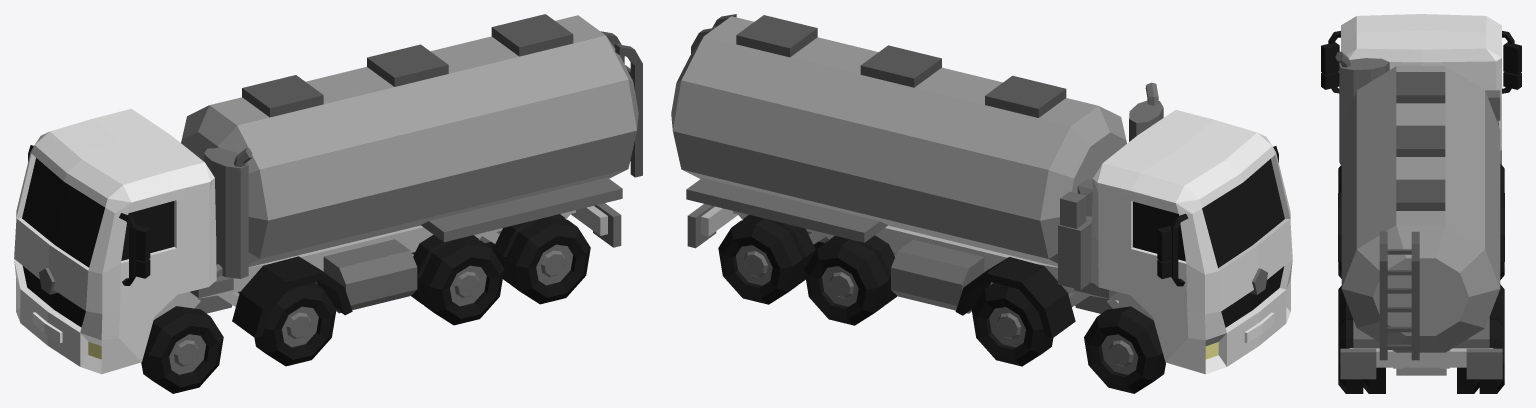
Rendered from vehicle_static_truck_2.glb.
The picture shows the model from 3 angles, left to right: view 1: azimuth 30°, elevation 25°; view 2: azimuth 150°, elevation 25°; view 3: azimuth 270°, elevation 25°; orthographic projection. The views are drawn at different scales.
Parts seen in each view (by area): view 1: Truck 2 Cargo; view 2: Truck 2 Cargo; view 3: Truck 2 Cargo.
Boxes of the visible parts, box(x1,y1,x2,y2) form: Truck 2 Cargo: box(14, 14, 642, 393); Truck 2 Cargo: box(671, 14, 1292, 393); Truck 2 Cargo: box(1321, 14, 1521, 393).
Bounding box in the file's own units: 8.56 × 3.33 × 2.94.
Materials: 4 (4 with a texture image).
